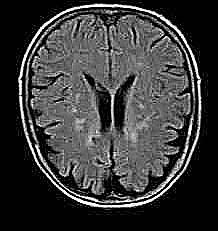Normal_Brain: (1, 1, 217, 231)
